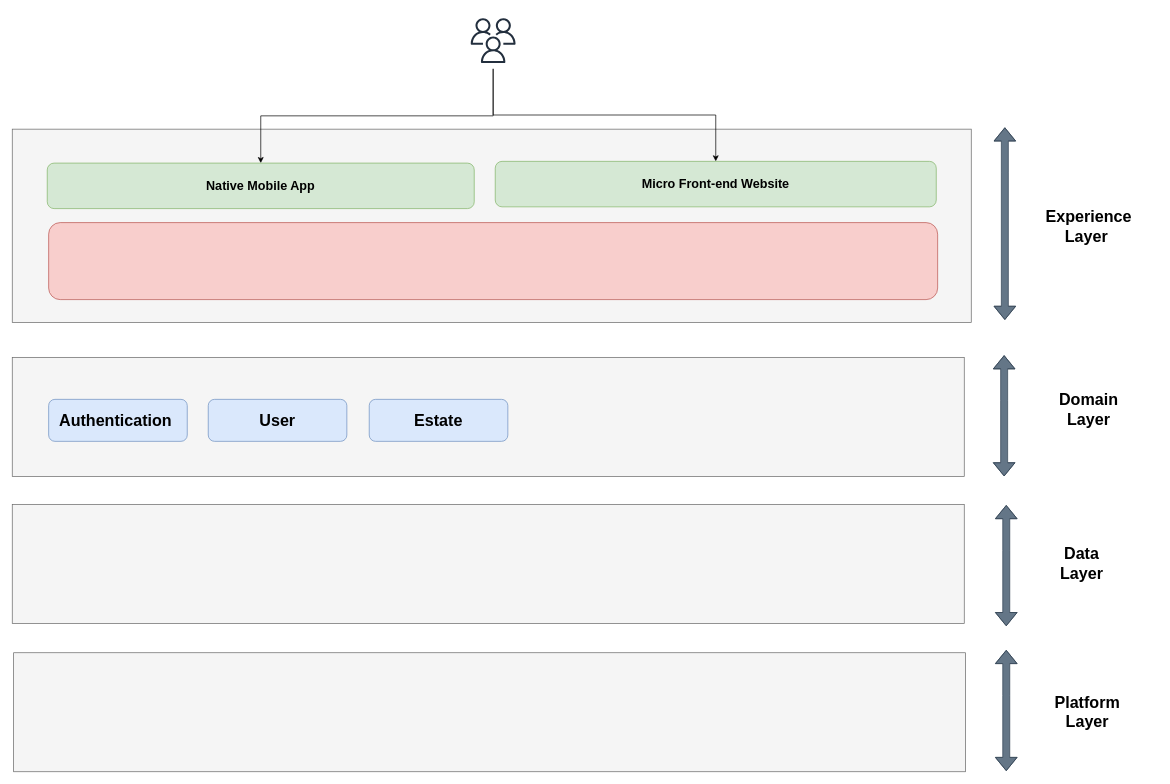
The diagram is 1170 pixels wide and 784 high, and some of its shapes have lost their labels. Each missing label, with the centre of its shape:
"Main Customer Facing BFF(GraphQL API)." goes at [493,261].
"Users" goes at [492,40].
